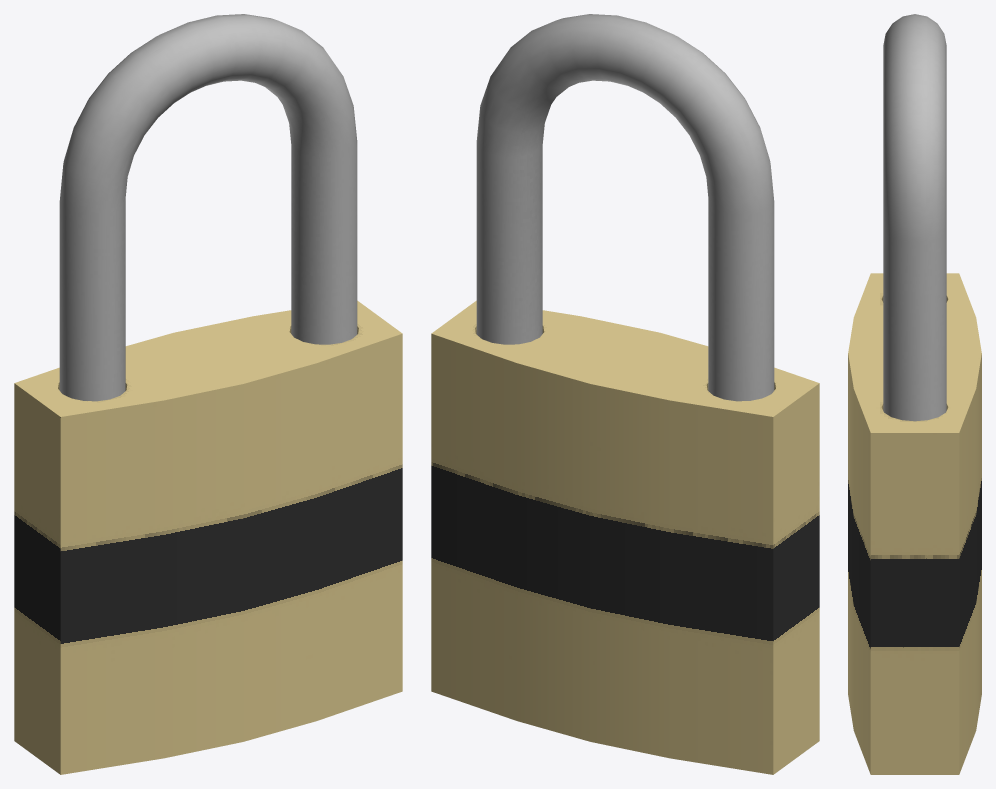
File: scrap_padlock.glb
3 views of the same model, side by side, from view 1: azimuth 30°, elevation 25°; view 2: azimuth 150°, elevation 25°; view 3: azimuth 270°, elevation 25° (orthographic). The views are drawn at different scales.
Parts seen in each view (by area): view 1: padlock_low, padlockup_low; view 2: padlock_low, padlockup_low; view 3: padlock_low, padlockup_low.
Boxes of the visible parts, left/top/right/bottom form: padlock_low: left=14, top=300, right=402, bottom=774; padlockup_low: left=59, top=14, right=357, bottom=401; padlock_low: left=431, top=300, right=819, bottom=774; padlockup_low: left=476, top=14, right=774, bottom=401; padlock_low: left=848, top=273, right=981, bottom=774; padlockup_low: left=883, top=14, right=946, bottom=421.
Bounding box in the file's own units: 0.0412 × 0.08 × 0.0146.
Materials: 1 (1 with a texture image).
